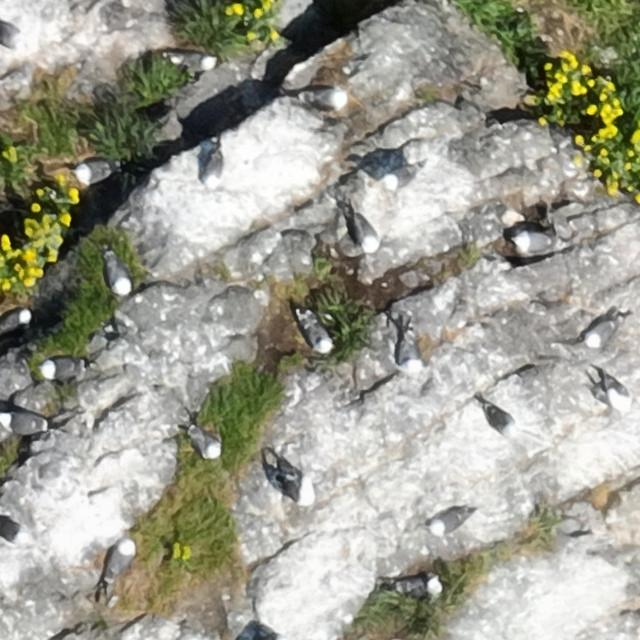umineko: (267, 456, 320, 509), (394, 325, 423, 378), (603, 373, 631, 412), (302, 318, 330, 352), (191, 429, 220, 459), (486, 404, 516, 433), (1, 412, 44, 432), (584, 319, 617, 345), (110, 541, 134, 576), (108, 258, 130, 294), (402, 577, 443, 596), (355, 217, 378, 250), (76, 161, 110, 182), (432, 511, 465, 532), (514, 233, 550, 252), (44, 359, 77, 379), (306, 88, 342, 106), (384, 166, 416, 186), (1, 21, 24, 48), (2, 309, 29, 331), (0, 517, 24, 541), (171, 52, 207, 68), (204, 152, 220, 185)
